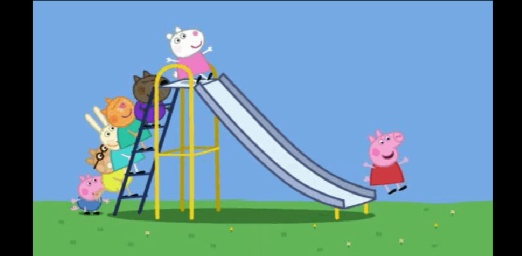Peppa: (365, 129, 409, 197)
